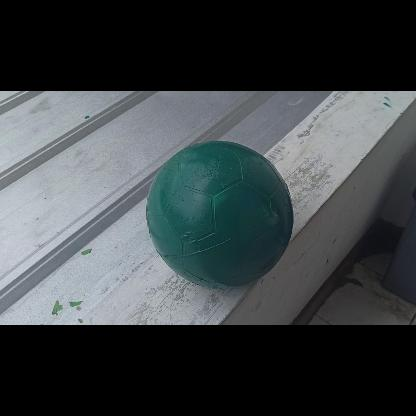green_ball: (144, 141, 294, 292)
